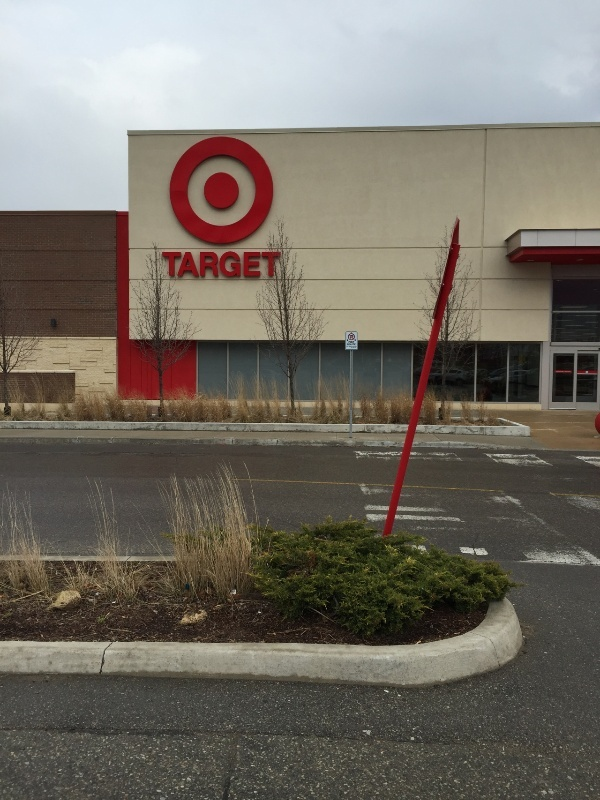text: (177, 251, 192, 277), (193, 251, 208, 277), (209, 251, 224, 277), (225, 251, 240, 277), (241, 251, 256, 277), (257, 251, 272, 277), (162, 251, 176, 277), (273, 251, 281, 277), (347, 343, 352, 346), (353, 343, 357, 346), (349, 341, 352, 344), (353, 341, 356, 344)
